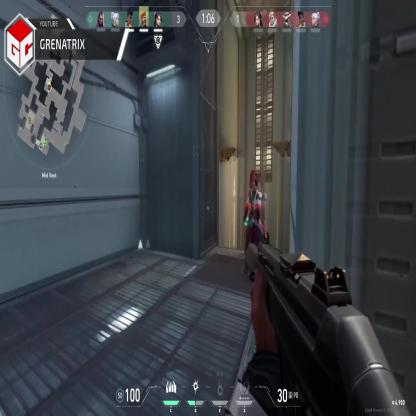enemy: (244, 172, 264, 280)
enemy_head: (251, 174, 258, 192)
